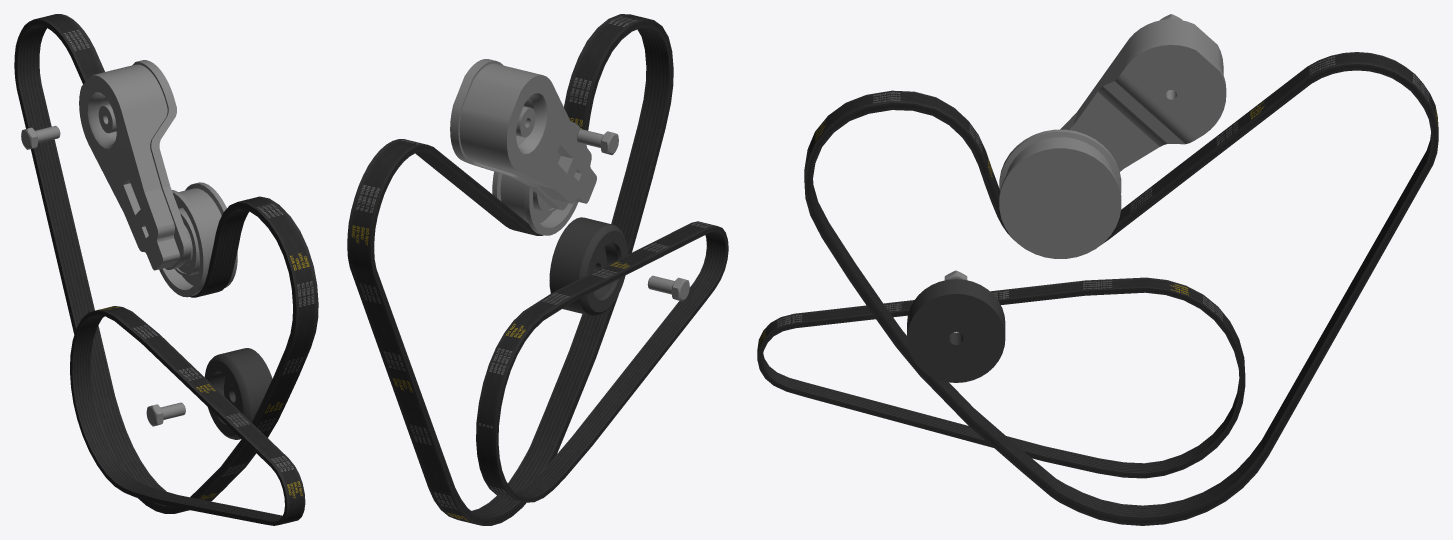
The model's file is tensionerNBelts.glb.
3 renders of one model, left to right at view 1: azimuth 30°, elevation 25°; view 2: azimuth 150°, elevation 25°; view 3: azimuth 270°, elevation 25°, orthographic. The views are drawn at different scales.
Parts seen in each view (by area): view 1: r4_pasek2(0), v8_napinacz(0), r4_pasek1(0), rolka_gladka(0), srubaSilnik_0, Obj_srubaSilnik_0; view 2: r4_pasek2(0), v8_napinacz(0), r4_pasek1(0), rolka_gladka(0), srubaSilnik_0, Obj_srubaSilnik_0; view 3: v8_napinacz(0), r4_pasek2(0), r4_pasek1(0), rolka_gladka(0).
Part boxes in pixels (bbox=[...]): r4_pasek2(0): bbox=[14, 14, 318, 513]; v8_napinacz(0): bbox=[79, 60, 237, 297]; r4_pasek1(0): bbox=[70, 306, 305, 525]; rolka_gladka(0): bbox=[204, 348, 272, 439]; srubaSilnik_0: bbox=[146, 402, 185, 426]; Obj_srubaSilnik_0: bbox=[21, 125, 60, 149]; r4_pasek2(0): bbox=[347, 14, 673, 525]; v8_napinacz(0): bbox=[450, 59, 596, 235]; r4_pasek1(0): bbox=[476, 221, 728, 502]; rolka_gladka(0): bbox=[549, 217, 627, 315]; srubaSilnik_0: bbox=[647, 275, 689, 301]; Obj_srubaSilnik_0: bbox=[577, 129, 618, 154]; v8_napinacz(0): bbox=[999, 19, 1226, 258]; r4_pasek2(0): bbox=[804, 52, 1438, 525]; r4_pasek1(0): bbox=[757, 277, 1245, 478]; rolka_gladka(0): bbox=[907, 279, 1005, 382].
Bounding box in the file's own units: 0.00215 × 0.00647 × 0.00832.
3 materials, 1 textured.
